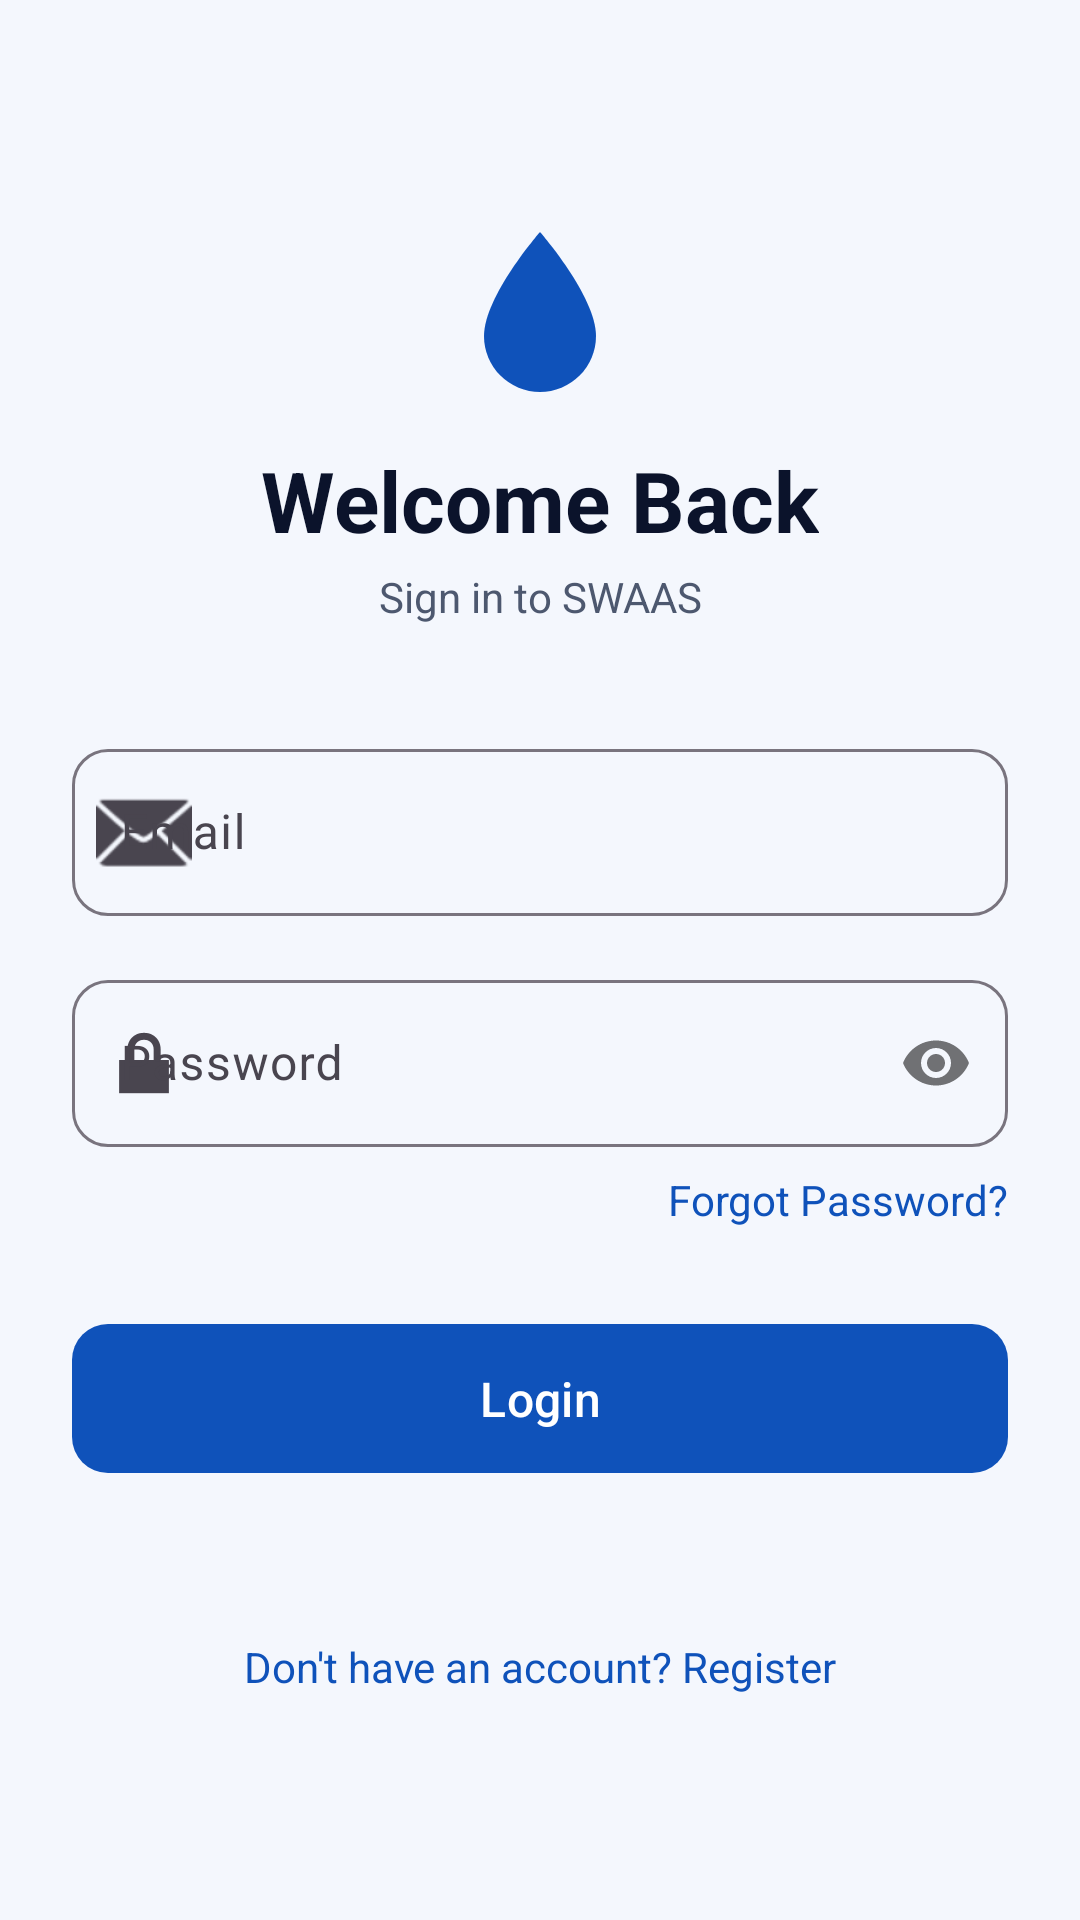

Named icons in this screenshot (1080px×1920px) and their centers, (x=x, y=y):
water drop: (x=540, y=312)
